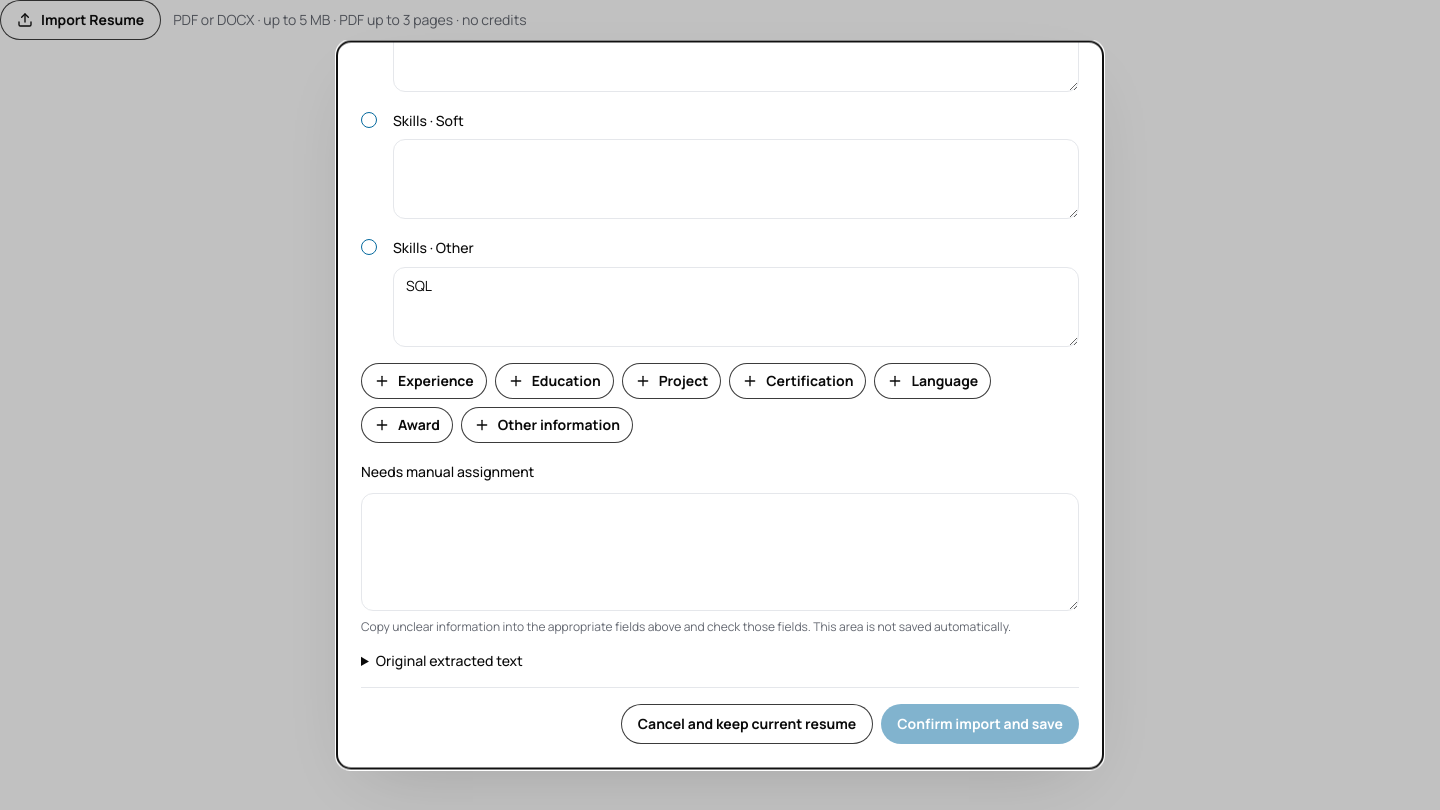
Scenario: import review confirmation boundary › extracting and cancelling never call the save function
Earlier steps of the test are not shown.
(page scrolled)
Step 1. Click the button "Cancel and keep current resume" → (747, 724), box [621,704,873,744]
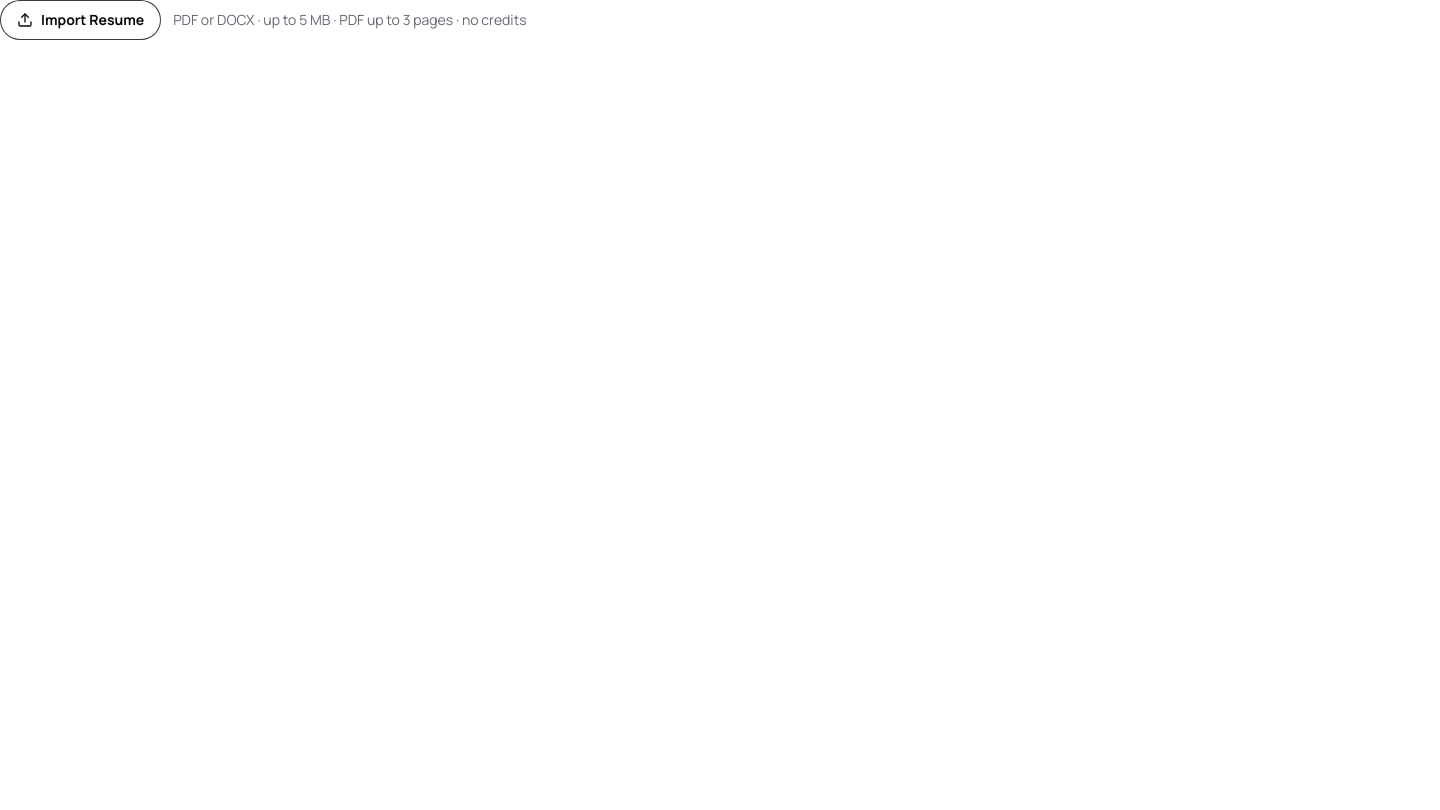
Now the dialog is gone
